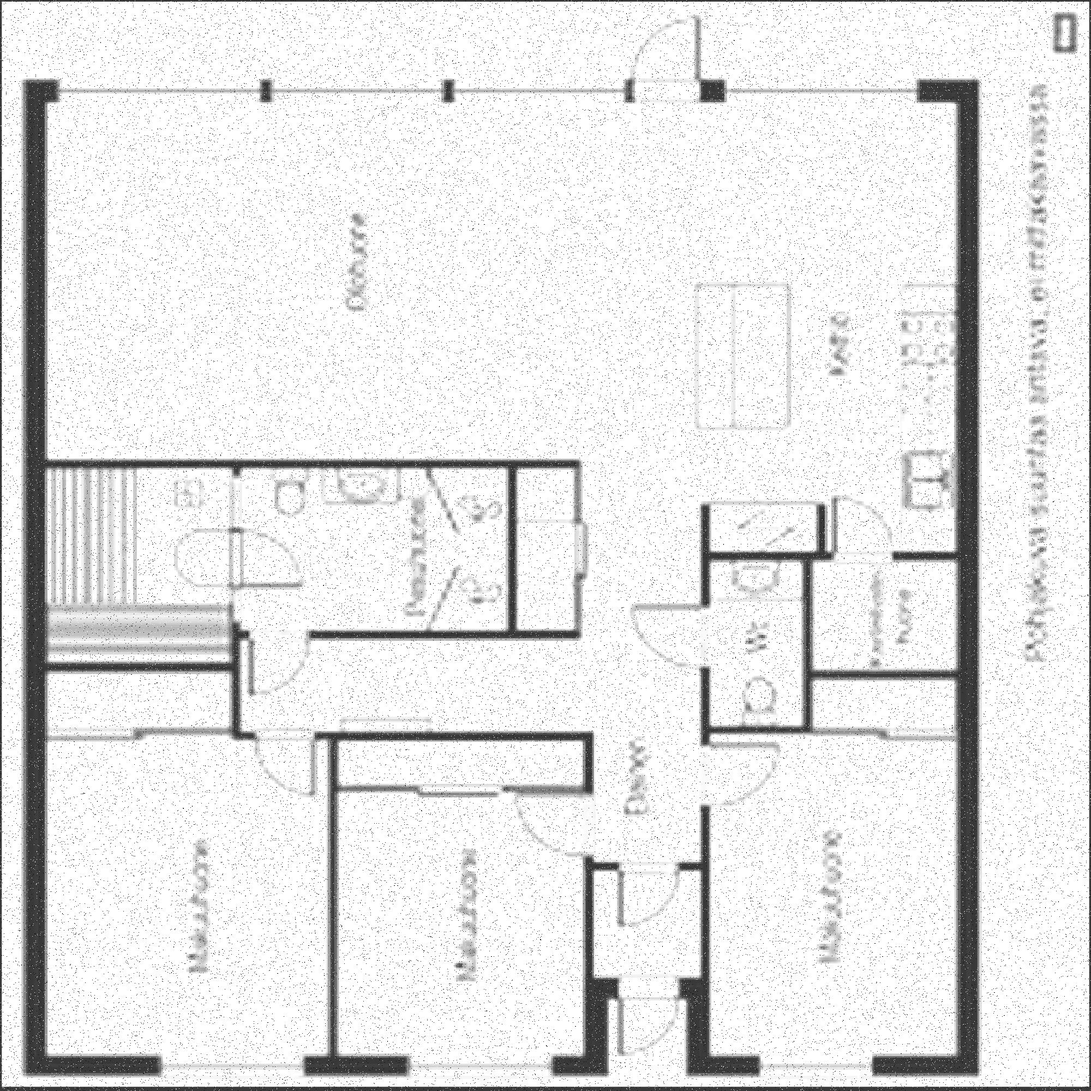wall: (26, 81, 977, 100), (26, 82, 44, 1076), (960, 82, 978, 1076), (26, 1059, 607, 1076), (688, 1059, 978, 1076), (44, 461, 578, 468), (703, 505, 709, 979), (586, 979, 709, 999), (240, 632, 577, 639), (233, 734, 591, 740), (687, 978, 708, 1075), (585, 978, 606, 1075), (233, 460, 240, 740), (330, 740, 336, 1059), (709, 554, 960, 561), (586, 734, 592, 979), (509, 468, 516, 632), (44, 665, 233, 671), (806, 561, 812, 734), (812, 673, 960, 679), (592, 865, 703, 871), (709, 728, 812, 734), (819, 505, 826, 561)
